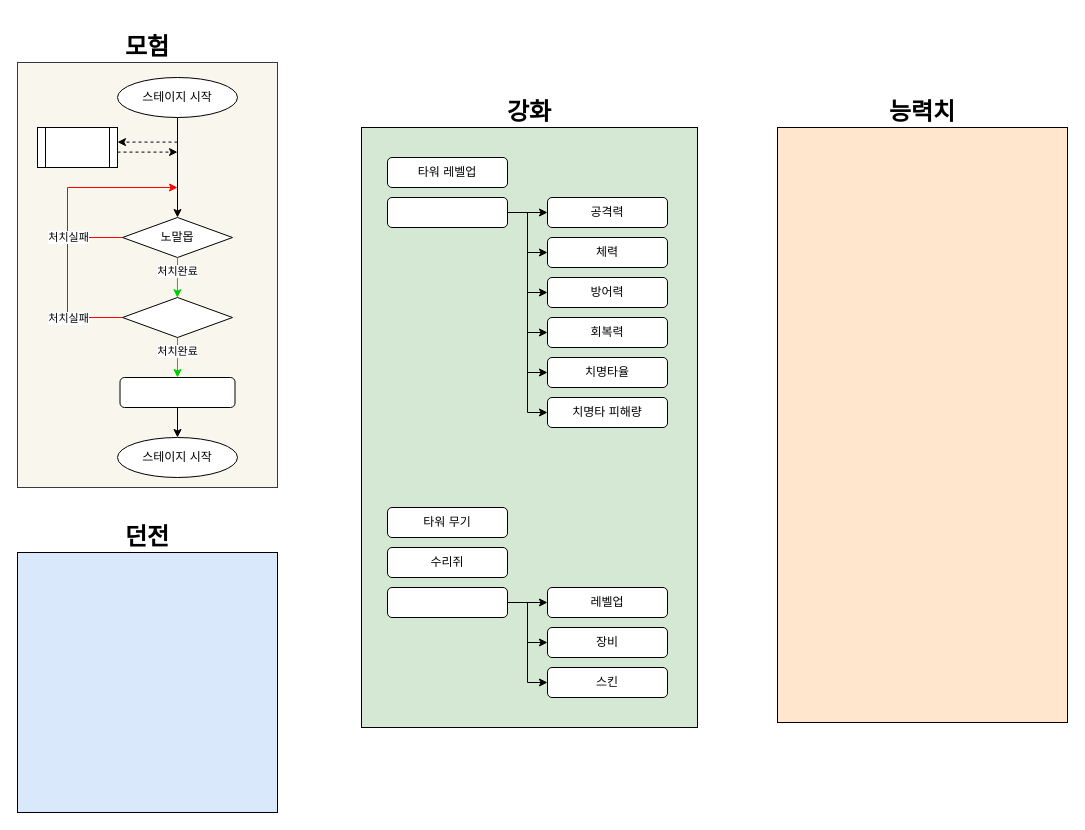
Some shapes in this 1085 by 830 pixel diagram are drawn without their labels. Each missing label, with the centre of its shape:
고양이: (447,602)
기본 성장: (447,212)
메인스토리 진행 및 기능 활성화: (77,147)
보상 획득: (177,392)
보스몹: (177,317)
